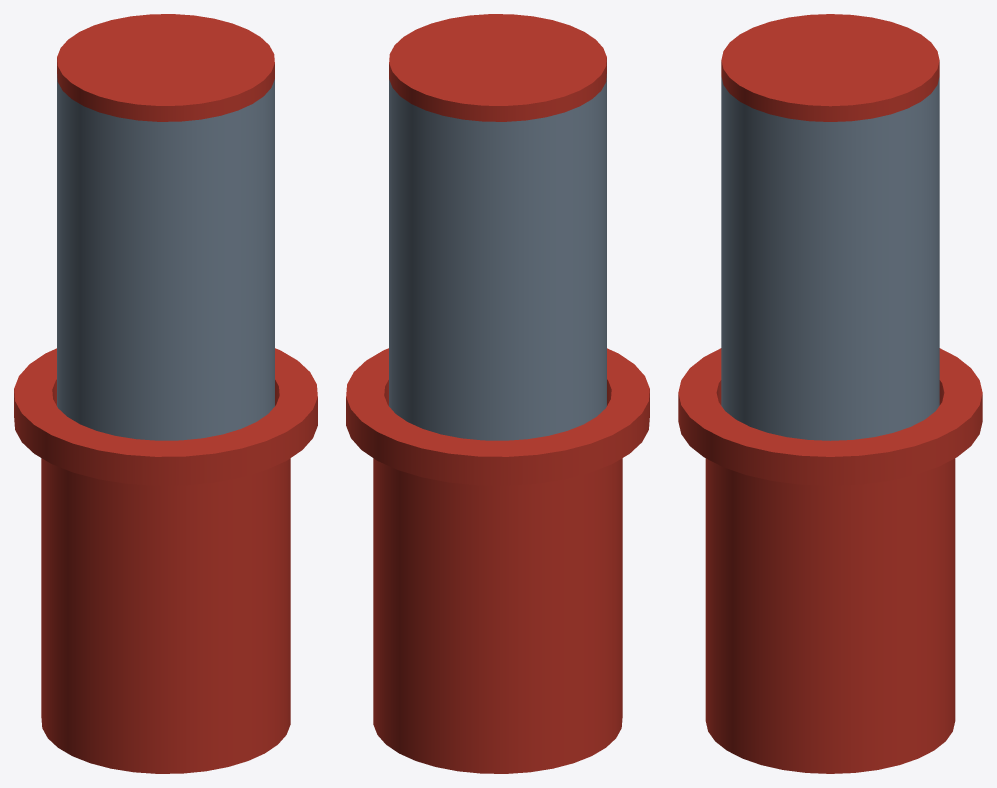
The model's file is barrier.fbx.
The picture shows the model from 3 angles, left to right: view 1: azimuth 30°, elevation 25°; view 2: azimuth 150°, elevation 25°; view 3: azimuth 270°, elevation 25°; orthographic projection.
Visible parts, largest first — view 1: Cylinder, Cylinder.001; view 2: Cylinder, Cylinder.001; view 3: Cylinder, Cylinder.001.
Boxes of the visible parts, x1,y1,x2,y2 form: Cylinder: [14, 348, 317, 773]; Cylinder.001: [57, 14, 274, 440]; Cylinder: [346, 348, 649, 773]; Cylinder.001: [389, 14, 606, 440]; Cylinder: [678, 348, 982, 773]; Cylinder.001: [721, 14, 939, 440].
Bounding box in the file's own units: 200 × 479 × 200.
1 material, 1 textured.
